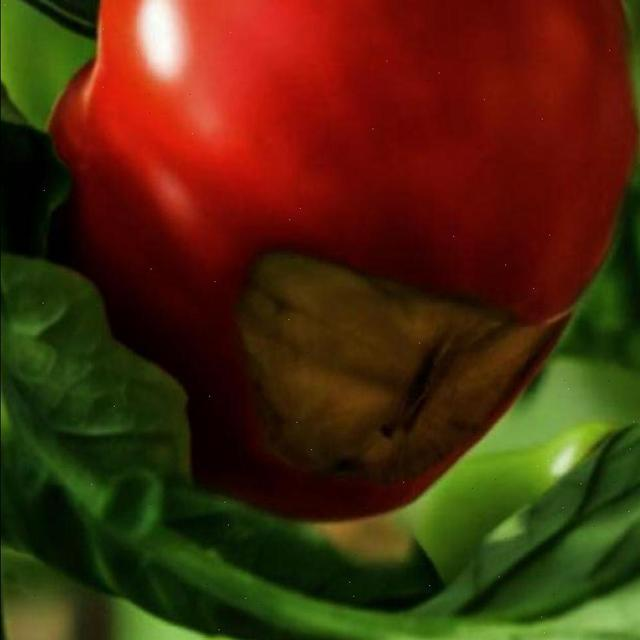Blossom End Rot Fruit: (151, 164, 392, 331)
